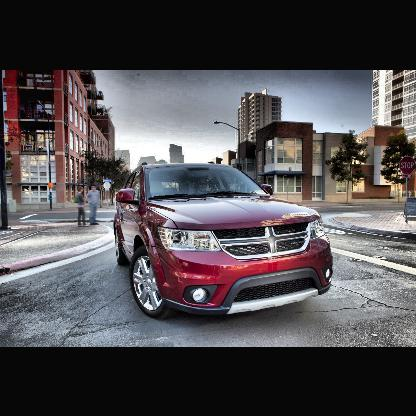Dodge Journey SUV 2012: (114, 165, 335, 318)
